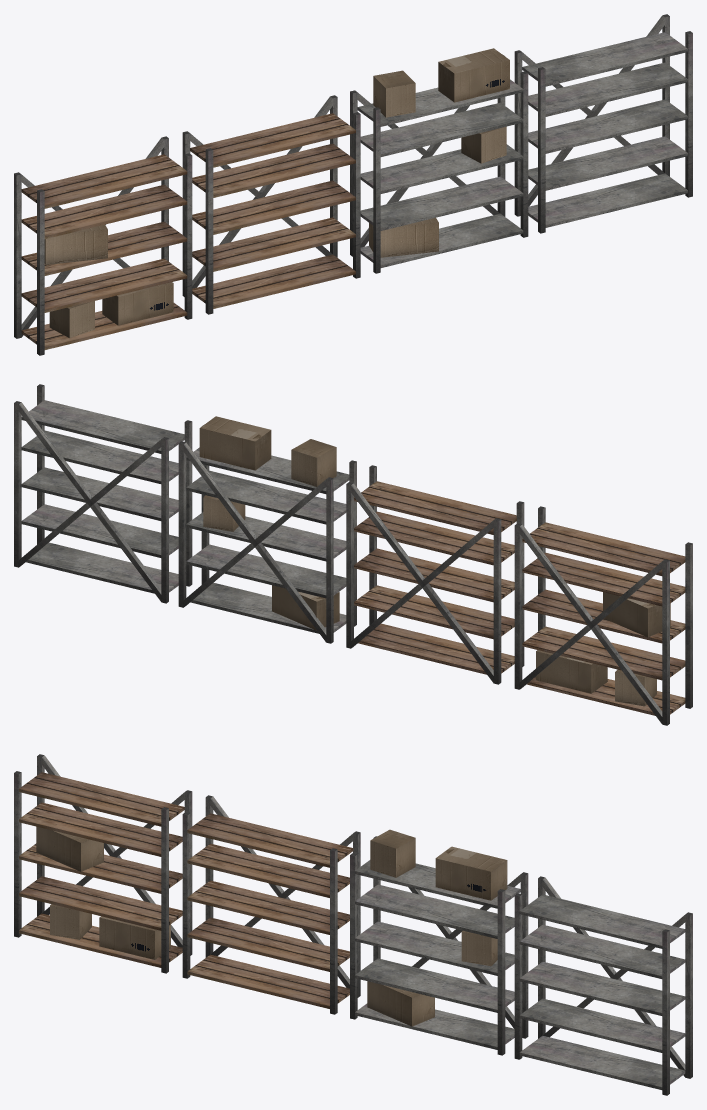
File: storage_shelves.glb
3 renders of one model, top to bottom at view 1: azimuth 30°, elevation 25°; view 2: azimuth 150°, elevation 25°; view 3: azimuth 330°, elevation 25°, orthographic.
Parts seen in each view (by area): view 1: Storage_Shelves_03_Storage_Shelves_0_8, Storage_Shelves_01_Storage_Shelves_0_4, Storage_Shelves_04_Storage_Shelves_0_10, Storage_Shelves_02_Storage_Shelves_0_6; view 2: Storage_Shelves_03_Storage_Shelves_0_8, Storage_Shelves_01_Storage_Shelves_0_4, Storage_Shelves_04_Storage_Shelves_0_10, Storage_Shelves_02_Storage_Shelves_0_6; view 3: Storage_Shelves_03_Storage_Shelves_0_8, Storage_Shelves_01_Storage_Shelves_0_4, Storage_Shelves_04_Storage_Shelves_0_10, Storage_Shelves_02_Storage_Shelves_0_6.
Part boxes in pixels (x1,y1,x2,y2): Storage_Shelves_03_Storage_Shelves_0_8: (350, 48, 528, 273); Storage_Shelves_01_Storage_Shelves_0_4: (14, 136, 192, 355); Storage_Shelves_04_Storage_Shelves_0_10: (514, 14, 692, 233); Storage_Shelves_02_Storage_Shelves_0_6: (182, 95, 360, 314); Storage_Shelves_03_Storage_Shelves_0_8: (178, 416, 356, 643); Storage_Shelves_01_Storage_Shelves_0_4: (514, 506, 692, 725); Storage_Shelves_04_Storage_Shelves_0_10: (14, 384, 192, 603); Storage_Shelves_02_Storage_Shelves_0_6: (346, 465, 524, 684); Storage_Shelves_03_Storage_Shelves_0_8: (350, 829, 528, 1055); Storage_Shelves_01_Storage_Shelves_0_4: (14, 754, 192, 973); Storage_Shelves_04_Storage_Shelves_0_10: (514, 876, 692, 1095); Storage_Shelves_02_Storage_Shelves_0_6: (182, 795, 360, 1014).
Size of the model in its own units: 9.2 by 2.39 by 0.6427.
Materials: 1 (1 with a texture image).
